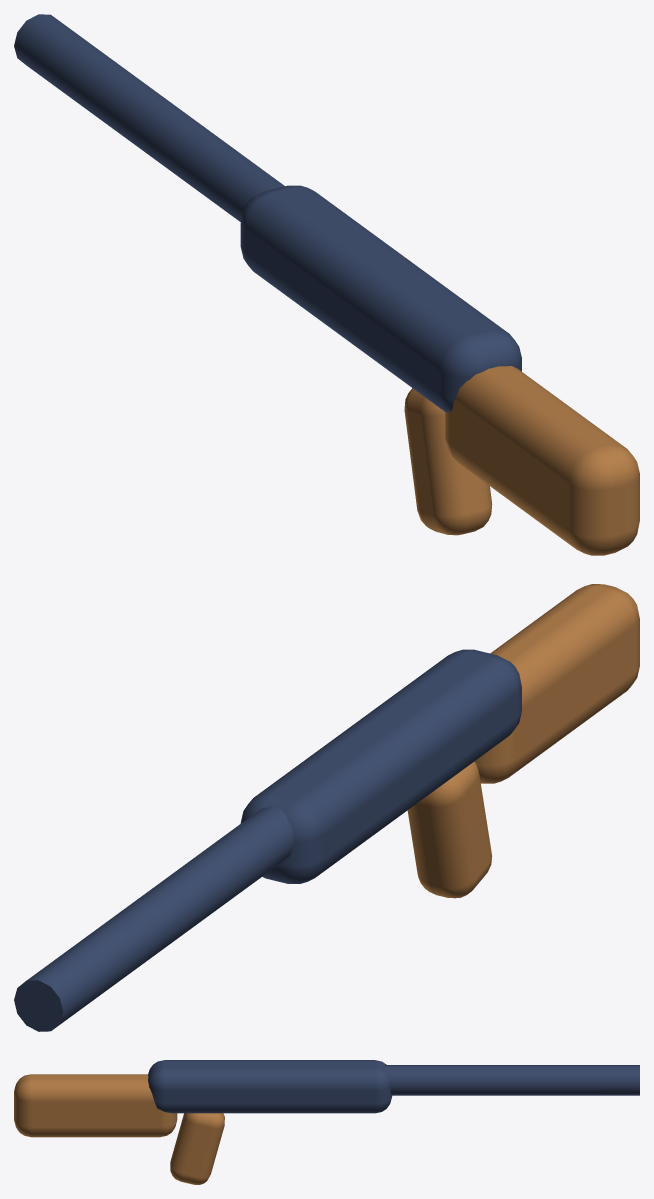
The model's file is placeholder_pump_37.glb.
3 renders of one model, top to bottom at view 1: azimuth 30°, elevation 25°; view 2: azimuth 150°, elevation 25°; view 3: azimuth 270°, elevation 25°, orthographic. The views are drawn at different scales.
Parts seen in each view (by area): view 1: placeholder_pump_37, body; view 2: placeholder_pump_37, body; view 3: placeholder_pump_37, body.
Boxes of the visible parts, bbox=[...] form: placeholder_pump_37: bbox=[14, 14, 639, 555]; body: bbox=[240, 185, 521, 412]; placeholder_pump_37: bbox=[14, 584, 639, 1031]; body: bbox=[240, 649, 521, 883]; placeholder_pump_37: bbox=[14, 1065, 639, 1184]; body: bbox=[148, 1060, 392, 1113].
Bounding box in the file's own units: 0.07 × 0.1858 × 0.897.
